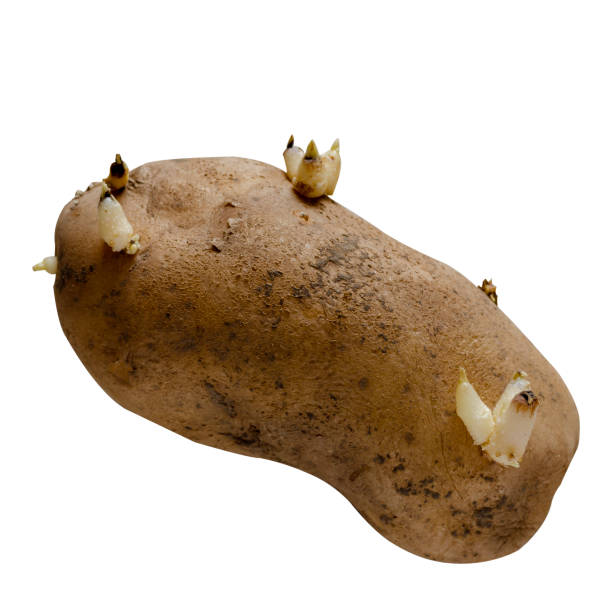potato rotten: (37, 125, 581, 568)
